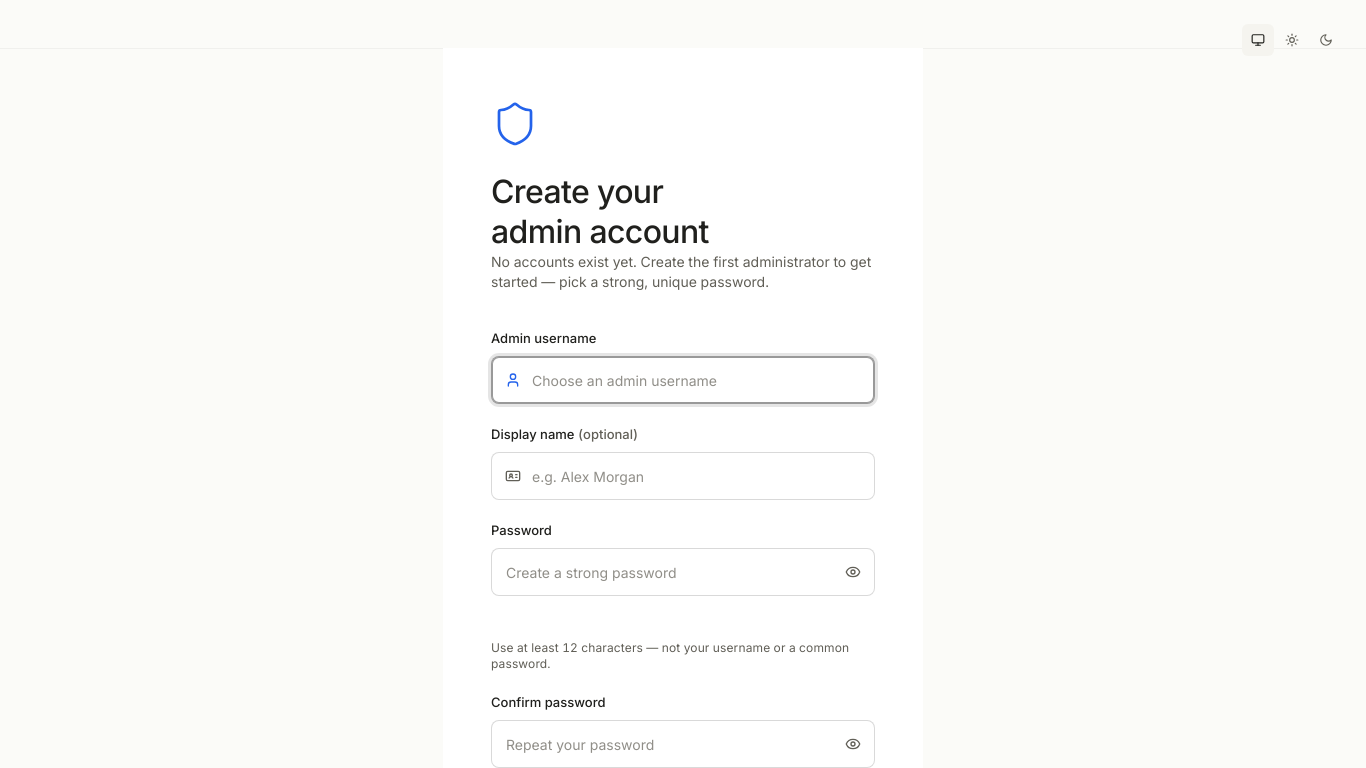
Test case: Login — four-mode render › renders the SETUP (create-admin) mode and the password-strength meter
This screenshot has width=1366, height=768.
Expected: the heading "Create your admin account" is shown, [491,172,709,251]
Typing a password surfaces the strength meter label without crashing.
In the password field labelled "Password": (683, 572) [491,548,875,596], type "Str0ng!Passw0rd#2026"
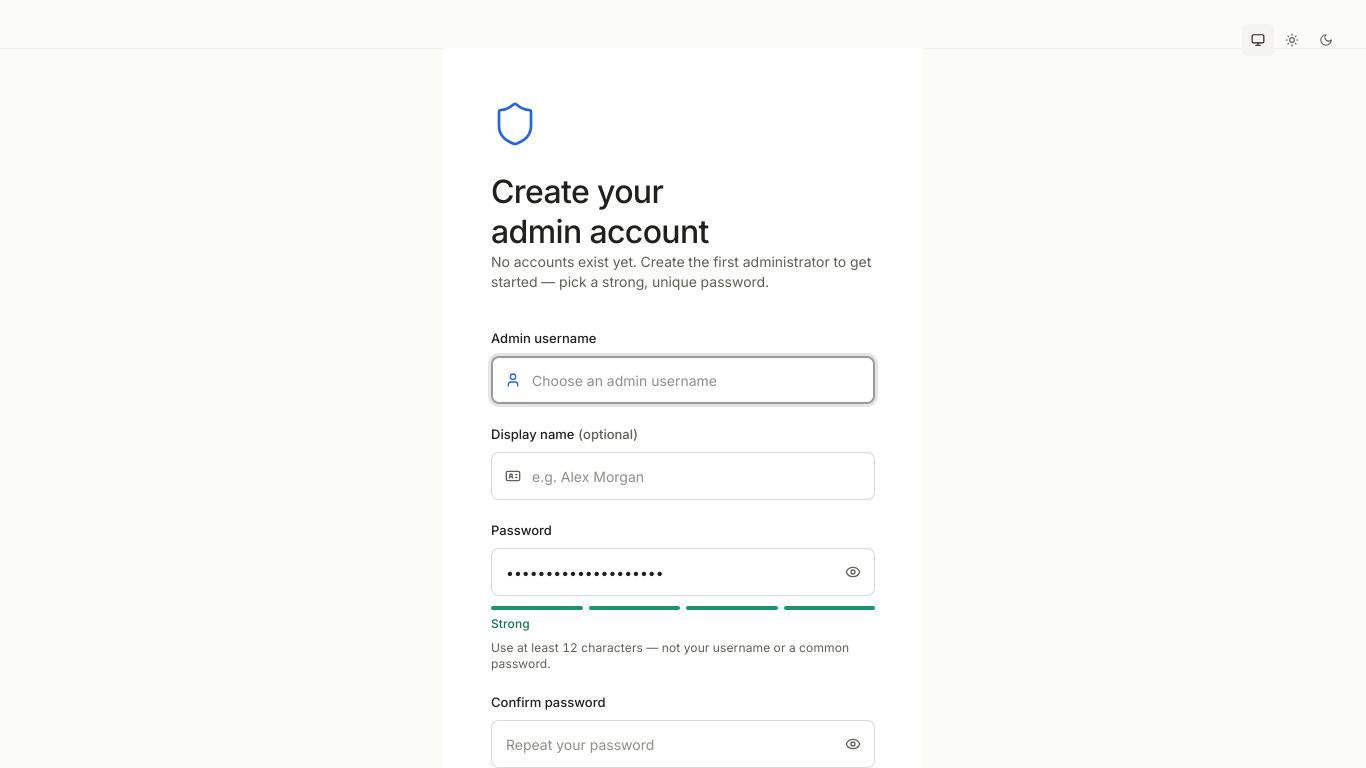
Now the text "Strong" is shown, box [491,616,530,632]
